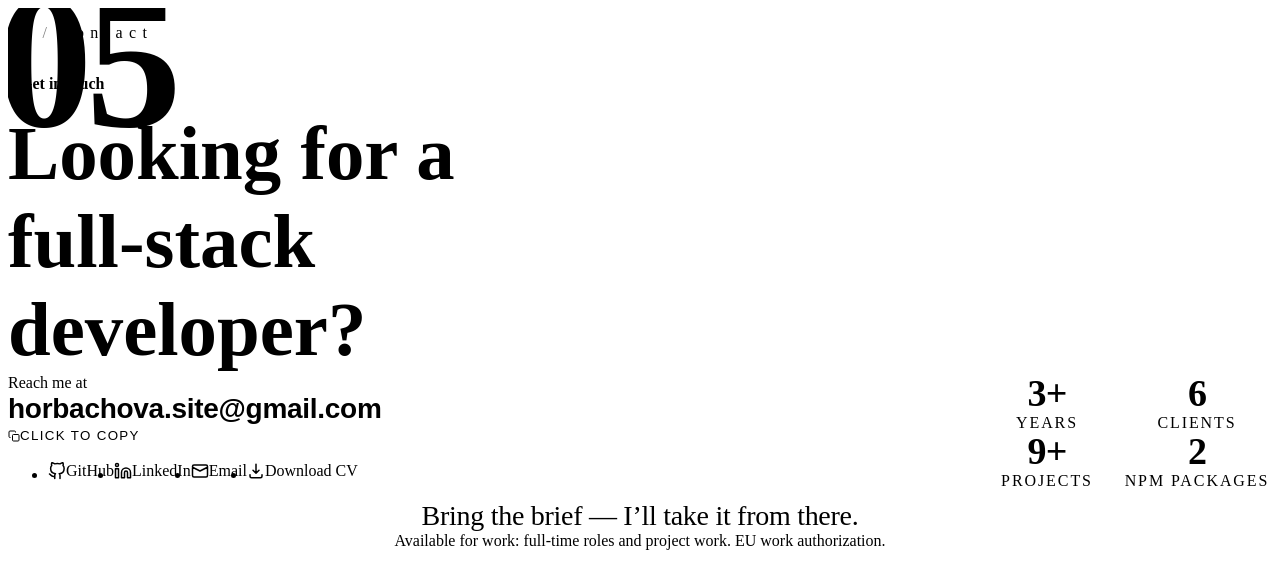
Test: Contact › says plainly when the clipboard is not available
The image size is (1280, 567).
Click the button "horbachova.site@gmail.com Click to copy" at (328, 419), box [8,392,648,446]
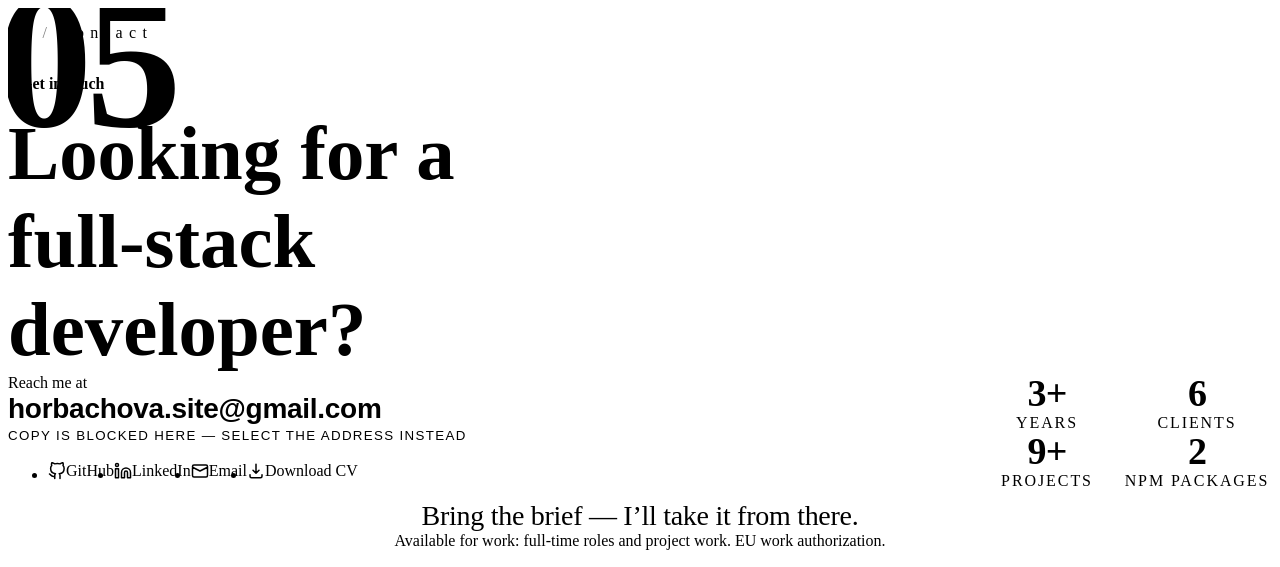
Result: the text "Copy is blocked here — select the address instead" is shown at [8,426,467,446]
